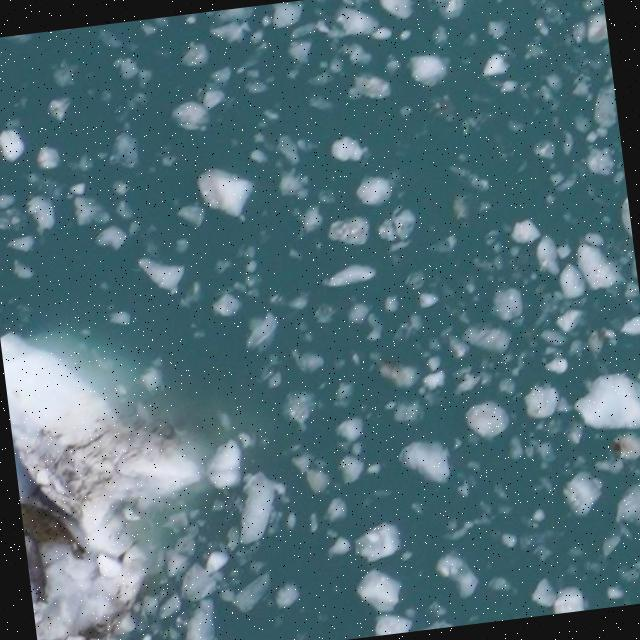seal: (10, 499, 98, 562), (22, 536, 49, 607)
